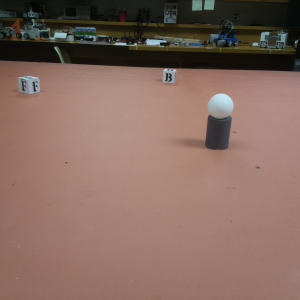blockB: (163, 68, 176, 85)
blockF: (18, 74, 39, 96)
obstacle: (203, 91, 235, 151)
